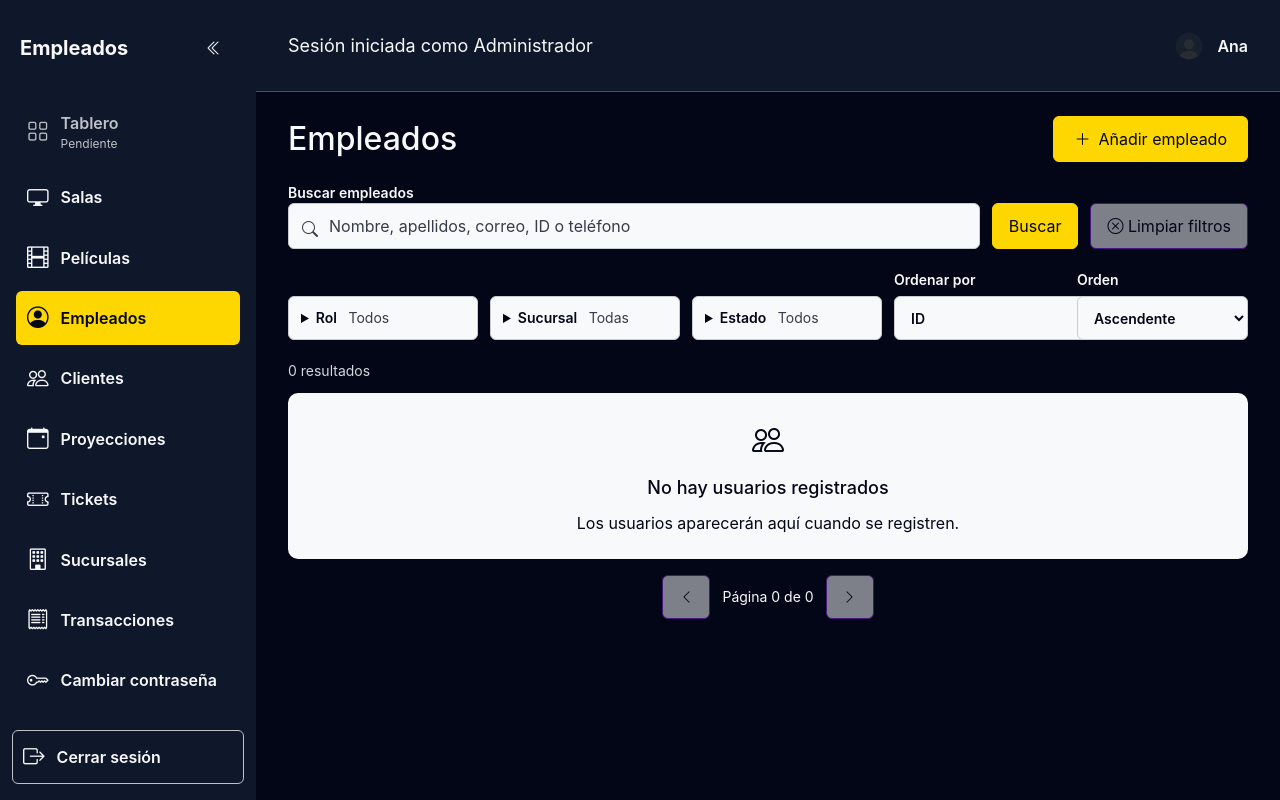
Test: DashboardView › switches between the two dashboard sections and updates the active menu item
Step 1. Click the button with aria-label "Clientes" → (128, 378), box [16,351,240,406]
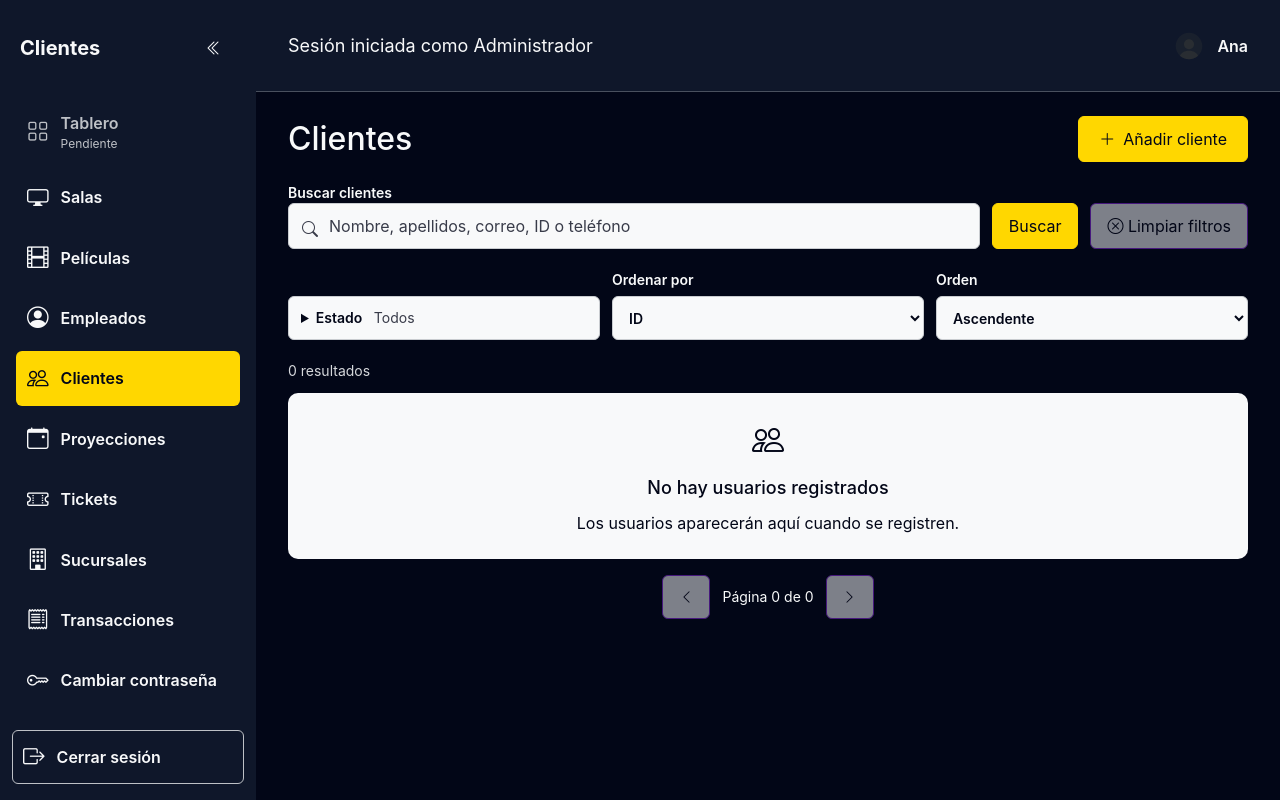
Result: the heading "Clientes" is shown at [288,120,412,158]
Step 2. Click the button with aria-label "Empleados" → (128, 318), box [16,291,240,345]
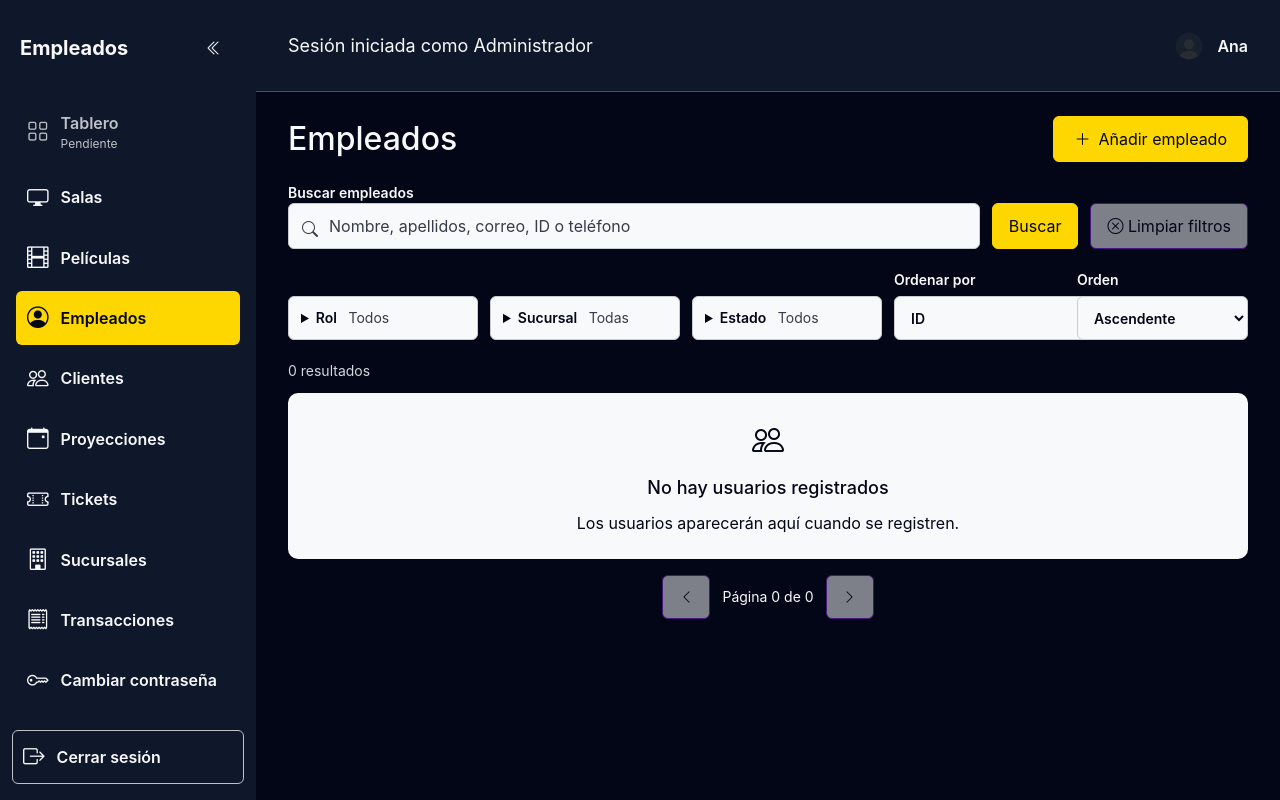
Result: the heading "Empleados" is shown at [288,120,457,158]
